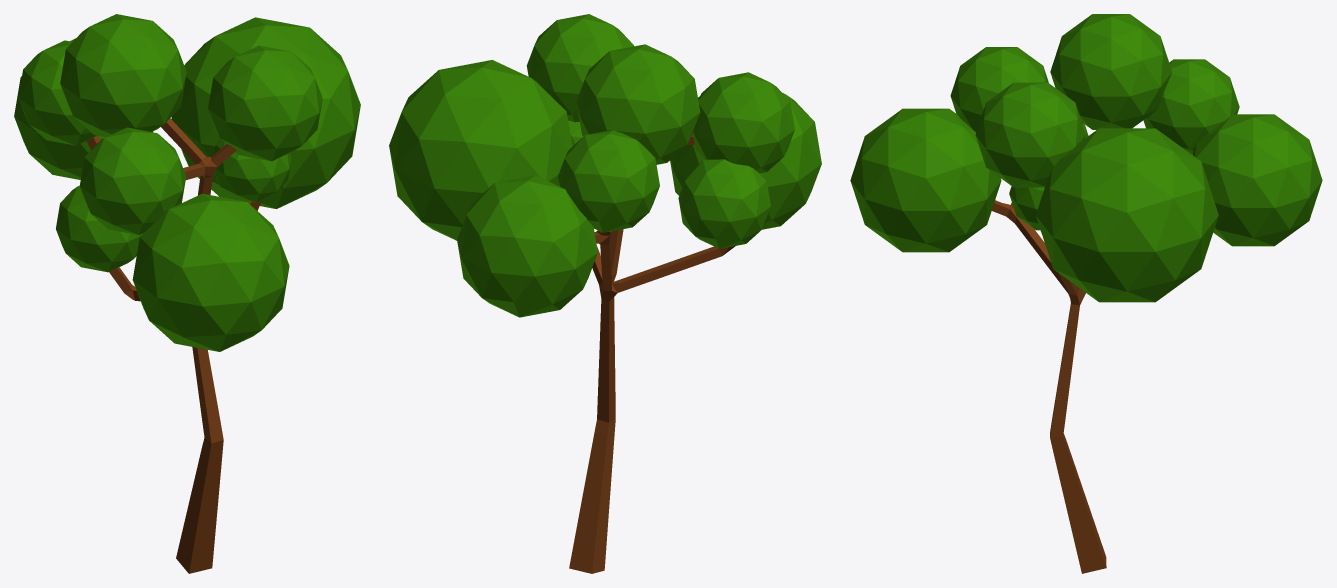
File: LowPolyTree.fbx
The picture shows the model from 3 angles, left to right: view 1: azimuth 30°, elevation 25°; view 2: azimuth 150°, elevation 25°; view 3: azimuth 270°, elevation 25°; orthographic projection. The views are drawn at different scales.
Visible parts, largest first — view 1: Leaves, tree; view 2: Leaves, tree; view 3: Leaves, tree.
Boxes of the visible parts, <box> form: Leaves: <box>14,14,360,351</box>; tree: <box>86,118,262,573</box>; Leaves: <box>389,14,821,317</box>; tree: <box>569,133,735,573</box>; Leaves: <box>850,14,1322,302</box>; tree: <box>991,120,1106,573</box>.
Bounding box in the file's own units: 387 × 632 × 517.
